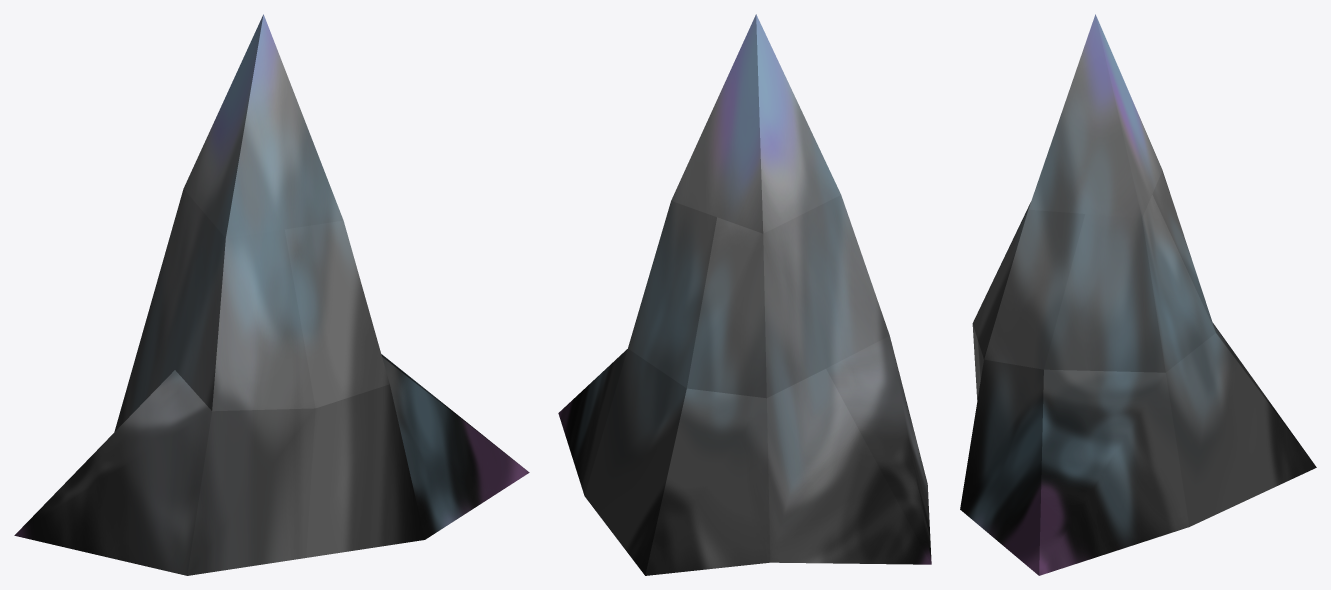
The model's file is Mountain2.fbx.
3 views of the same model, side by side, from view 1: azimuth 30°, elevation 25°; view 2: azimuth 150°, elevation 25°; view 3: azimuth 270°, elevation 25° (orthographic). The views are drawn at different scales.
Parts seen in each view (by area): view 1: Mountain2; view 2: Mountain2; view 3: Mountain2.
Part boxes in pixels (x1,y1,x2,y2): Mountain2: (14,14,529,575); Mountain2: (558,14,931,575); Mountain2: (960,14,1316,575).
Bounding box in the file's own units: 2435 × 2545 × 1806.
